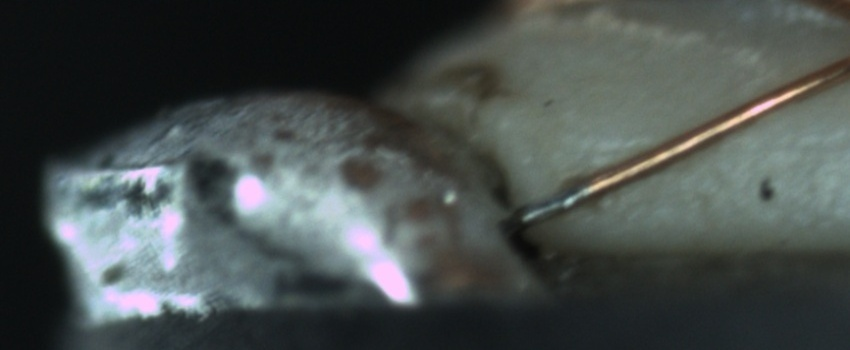DL: (564, 116, 845, 178)
TS: (509, 181, 589, 227)
TTCW: (507, 166, 613, 229)
